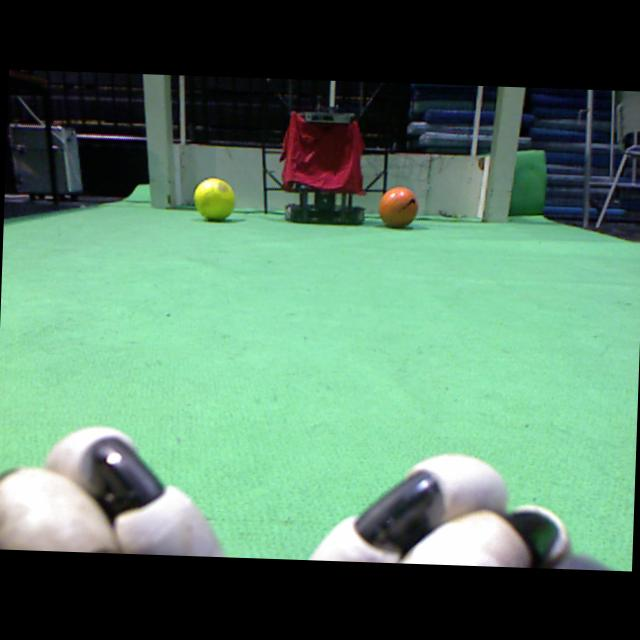ball: (194, 177, 235, 221), (379, 186, 417, 228)
goal: (488, 86, 524, 222), (143, 74, 170, 209)
